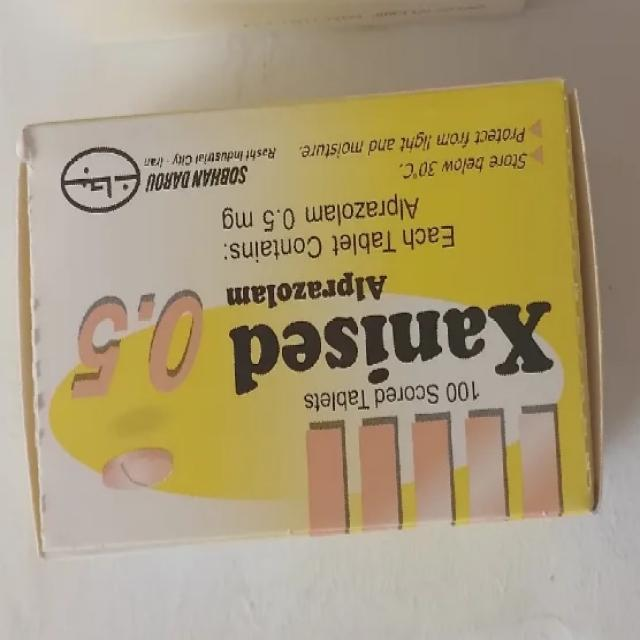drug-name: (227, 299, 556, 397)
